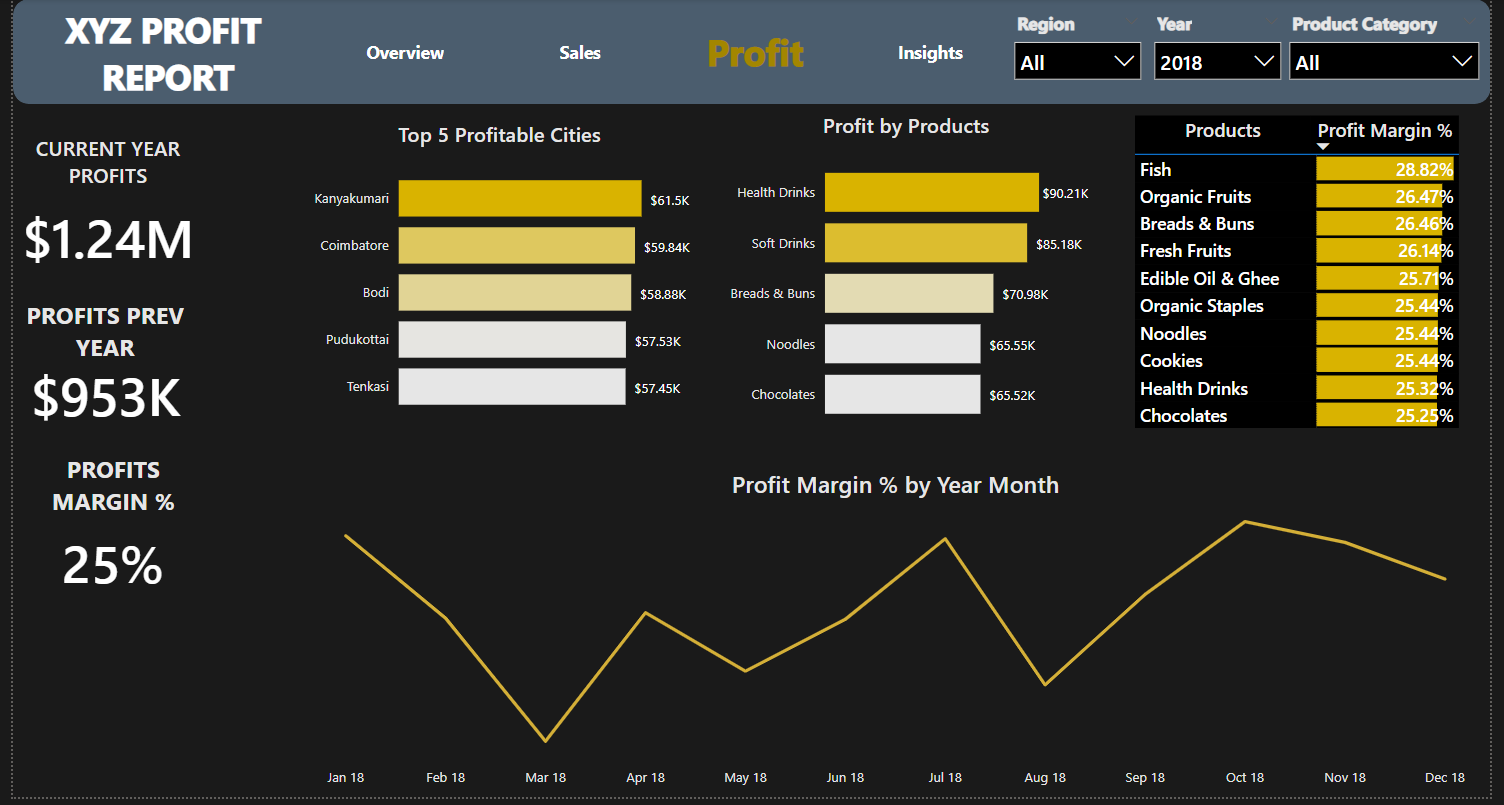

The dashboard page shown, as its layout file describes it:
{"tool":"powerbi","page":{"name":"Profit","canvas":[1350,730],"ordinal":2},"visuals":[{"type":"card","title":"PROFITS MARGIN %","fields":{"Values":["_Measures.Profit Margin %"]},"box":[0,415,183.8,141.2],"z":0},{"type":"tableEx","fields":{"Values":["Dim_Category.Sub Category","_Measures.Profit Margin %"]},"box":[1018.8,101.2,331.2,301.2],"z":1000},{"type":"lineChart","fields":{"Category":["Calendar Table.Year Month"],"Y":["_Measures.Profit Margin %"]},"box":[262.5,428.8,1087.5,301.2],"z":2000},{"type":"clusteredBarChart","title":"Top 5 Profitable Cities","fields":{"Category":["Dim_Location.City"],"Y":["_Measures.Total Profit"]},"box":[262.5,111.2,363.8,283.8],"z":3000},{"type":"clusteredBarChart","title":"Profit by Products","fields":{"Category":["Dim_Category.Sub Category"],"Y":["_Measures.Total Profit"]},"box":[643.8,102.5,343.8,301.2],"z":4000},{"type":"card","title":"CURRENT YEAR PROFITS","fields":{"Values":["_Measures.Profit CY"]},"box":[0,123.8,173.8,137.5],"z":5000},{"type":"shape","box":[0,0,1350,96.2],"z":6000},{"type":"textbox","box":[0,1.2,283.8,95],"z":7000},{"type":"slicer","fields":{"Values":["Calendar Table.Year"]},"box":[1032.5,6.2,136.2,77.5],"z":8000},{"type":"slicer","fields":{"Values":["Dim_Category.Category"]},"box":[1156.2,6.2,193.8,77.5],"z":9000},{"type":"slicer","fields":{"Values":["Dim_Location.Region"]},"box":[905,6.2,136.2,77.5],"z":10000},{"type":"card","title":"PROFITS PREV YEAR","fields":{"Values":["_Measures.Profit PY"]},"box":[0,273.8,168.8,116.2],"z":11000},{"type":"pageNavigator","box":[283.8,0,630,96.2],"z":12000}]}

Visuals, with their boxes in screenshot pixels (x1, y1, x2, y2), scaled from the page's 1350x730 canvas onto the 1504x805 screenshot:
"PROFITS MARGIN %" card: region(0, 458, 205, 613)
tableEx - Dim_Category.Sub Category x _Measures.Profit Margin %: region(1135, 112, 1503, 444)
lineChart - Calendar Table.Year Month x _Measures.Profit Margin %: region(292, 473, 1503, 804)
"Top 5 Profitable Cities" clusteredBarChart: region(292, 123, 698, 436)
"Profit by Products" clusteredBarChart: region(717, 113, 1100, 445)
"CURRENT YEAR PROFITS" card: region(0, 137, 194, 288)
shape: region(0, 0, 1503, 106)
textbox: region(0, 1, 316, 106)
slicer - Calendar Table.Year: region(1150, 7, 1302, 92)
slicer - Dim_Category.Category: region(1288, 7, 1503, 92)
slicer - Dim_Location.Region: region(1008, 7, 1160, 92)
"PROFITS PREV YEAR" card: region(0, 302, 188, 430)
pageNavigator: region(316, 0, 1018, 106)
